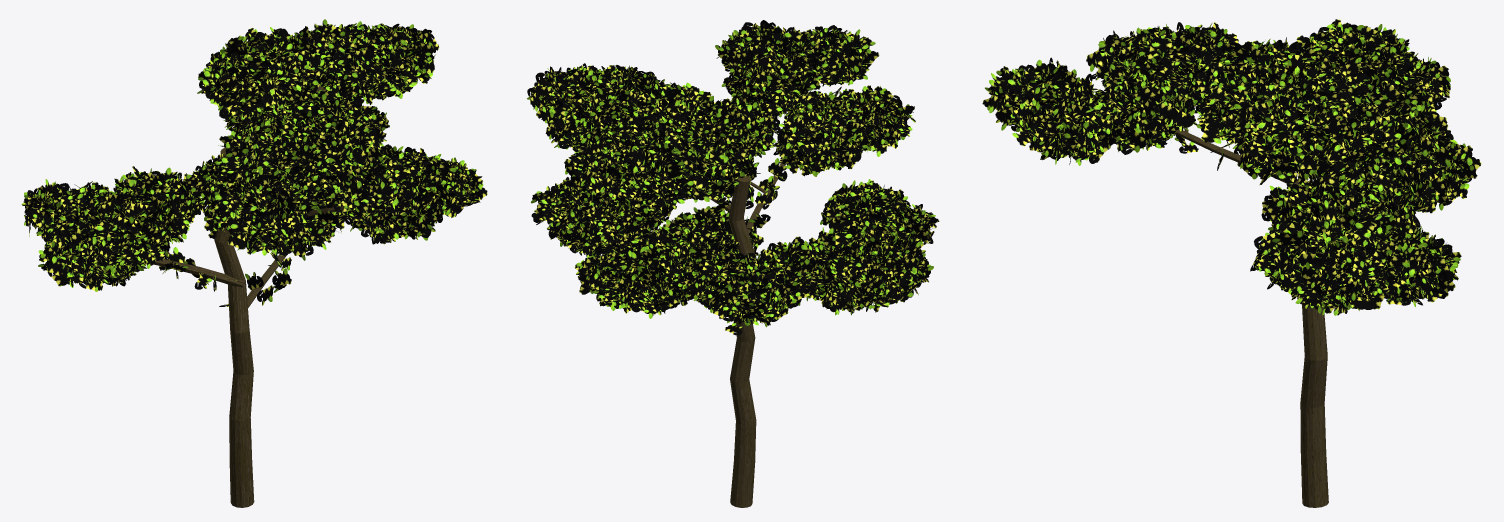
File: acacia_flat_v02.fbx
The picture shows the model from 3 angles, left to right: view 1: azimuth 30°, elevation 25°; view 2: azimuth 150°, elevation 25°; view 3: azimuth 270°, elevation 25°; orthographic projection. The views are drawn at different scales.
Visible parts, largest first — view 1: acacia_flat_v02; view 2: acacia_flat_v02; view 3: acacia_flat_v02.
Boxes of the visible parts, x1,y1,x2,y2 form: acacia_flat_v02: (21, 19, 487, 507); acacia_flat_v02: (527, 20, 939, 507); acacia_flat_v02: (982, 19, 1481, 507).
Bounding box in the file's own units: 1066 × 1008 × 1084.
2 materials, 2 textured.
